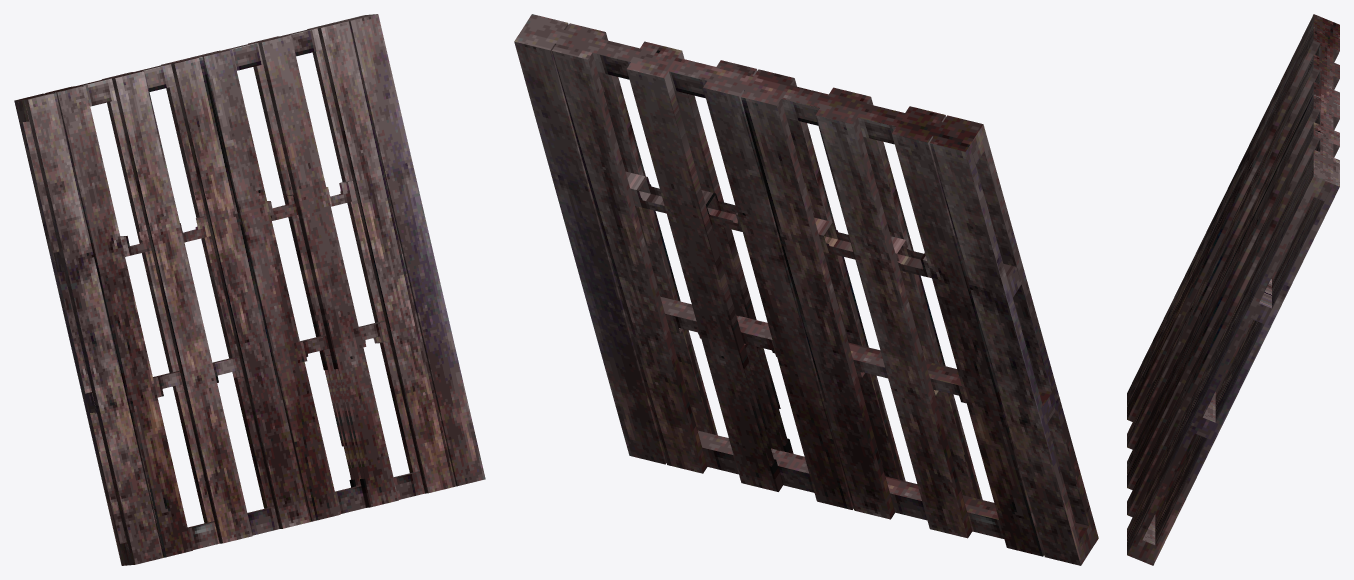
Rendered from palet01_Rooftop.fbx.
3 renders of one model, left to right at view 1: azimuth 30°, elevation 25°; view 2: azimuth 150°, elevation 25°; view 3: azimuth 270°, elevation 25°, orthographic. The views are drawn at different scales.
Visible parts, largest first — view 1: palet01_Rooftop; view 2: palet01_Rooftop; view 3: palet01_Rooftop.
Boxes of the visible parts, <box> form: palet01_Rooftop: <box>14,14,485,565</box>; palet01_Rooftop: <box>514,14,1098,565</box>; palet01_Rooftop: <box>1127,14,1339,565</box>.
Size of the model in its own units: 1.26 by 1.37 by 0.6835.
